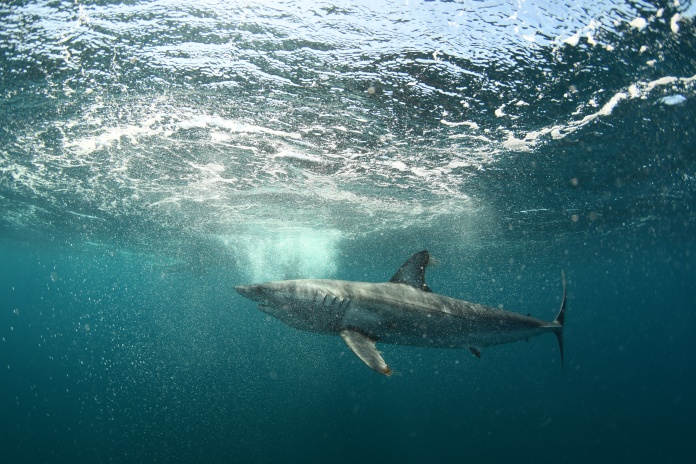Mako: (224, 242, 587, 378)
